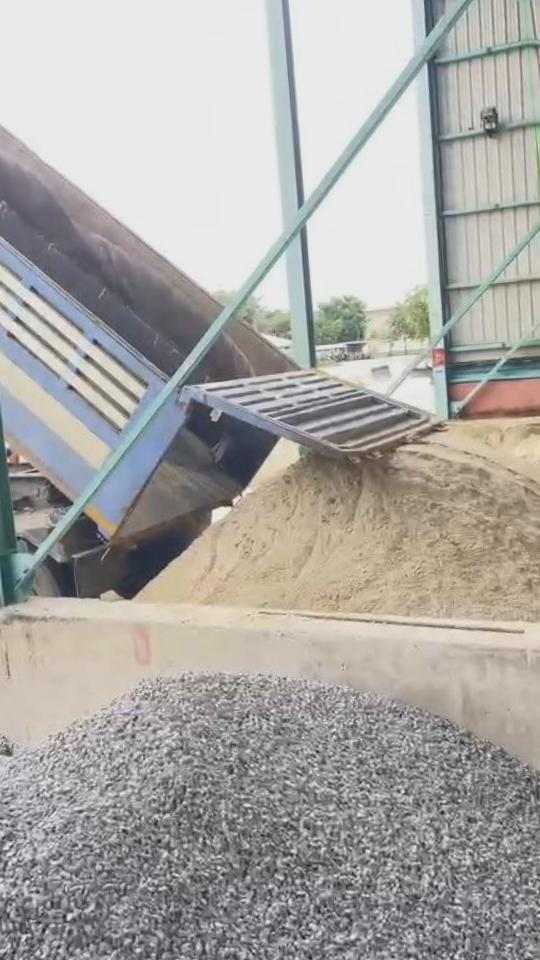gravel: (0, 677, 540, 960), (0, 736, 11, 795)
sand: (138, 441, 540, 621), (440, 417, 540, 475), (253, 441, 298, 485)
